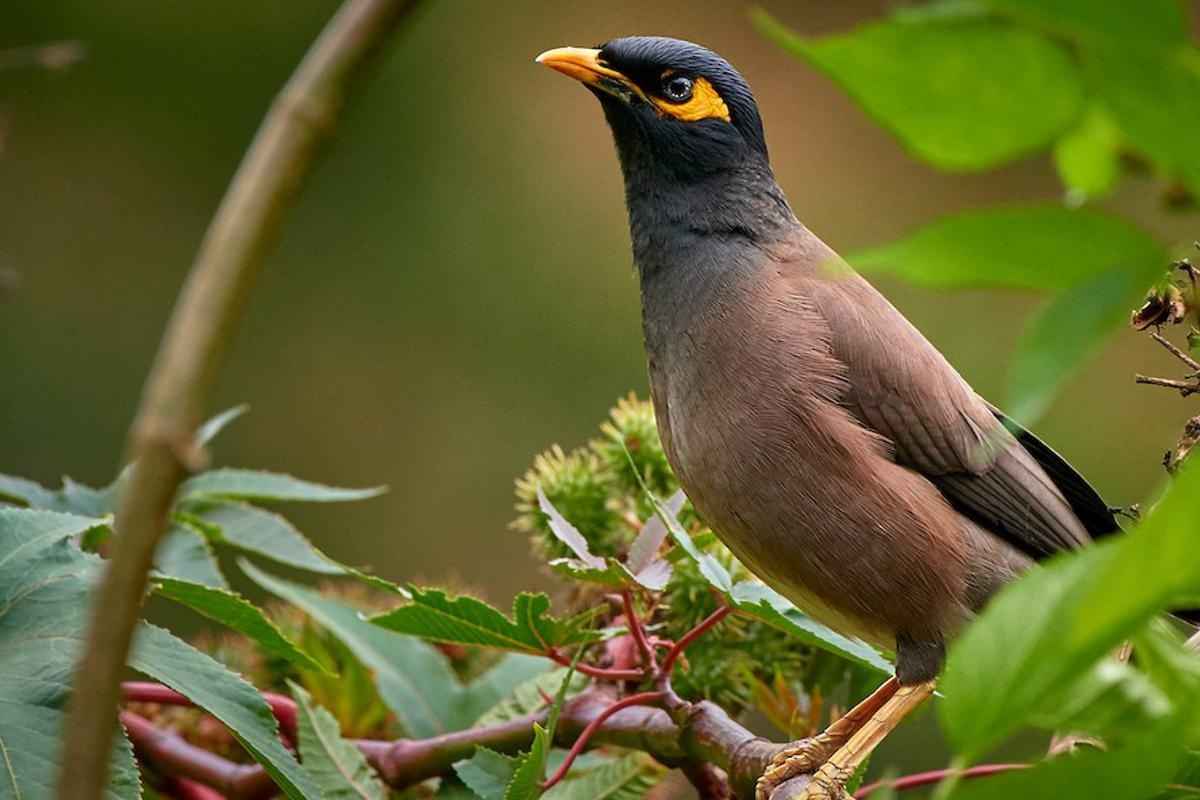myna: (533, 21, 1115, 670)
